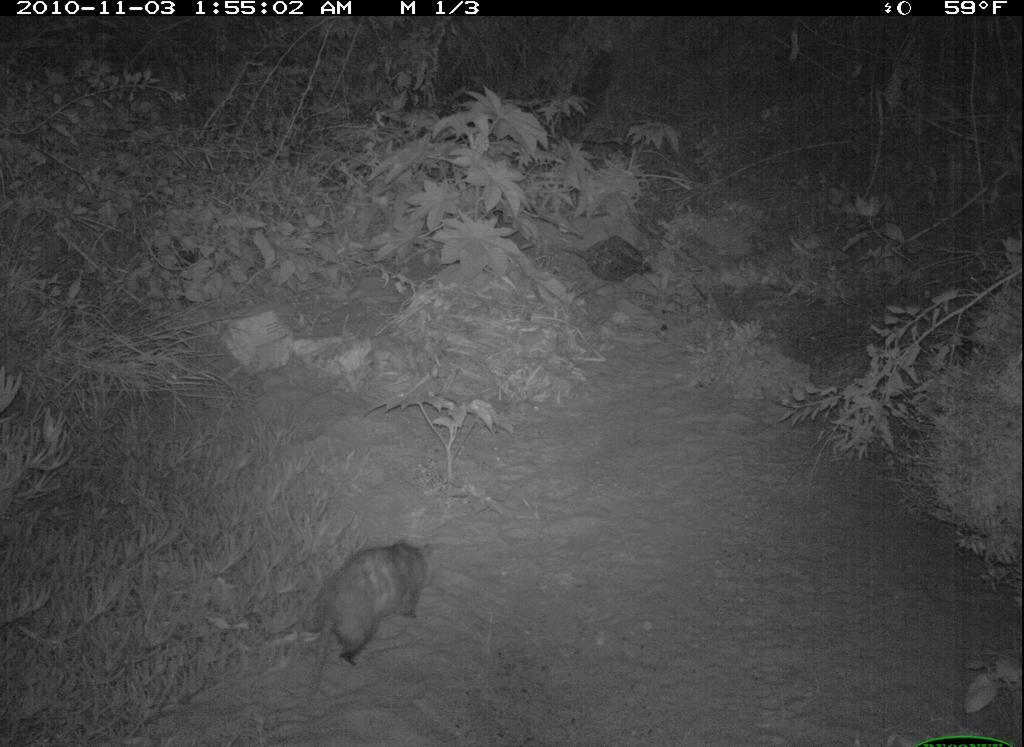opossum: (289, 529, 443, 692)
